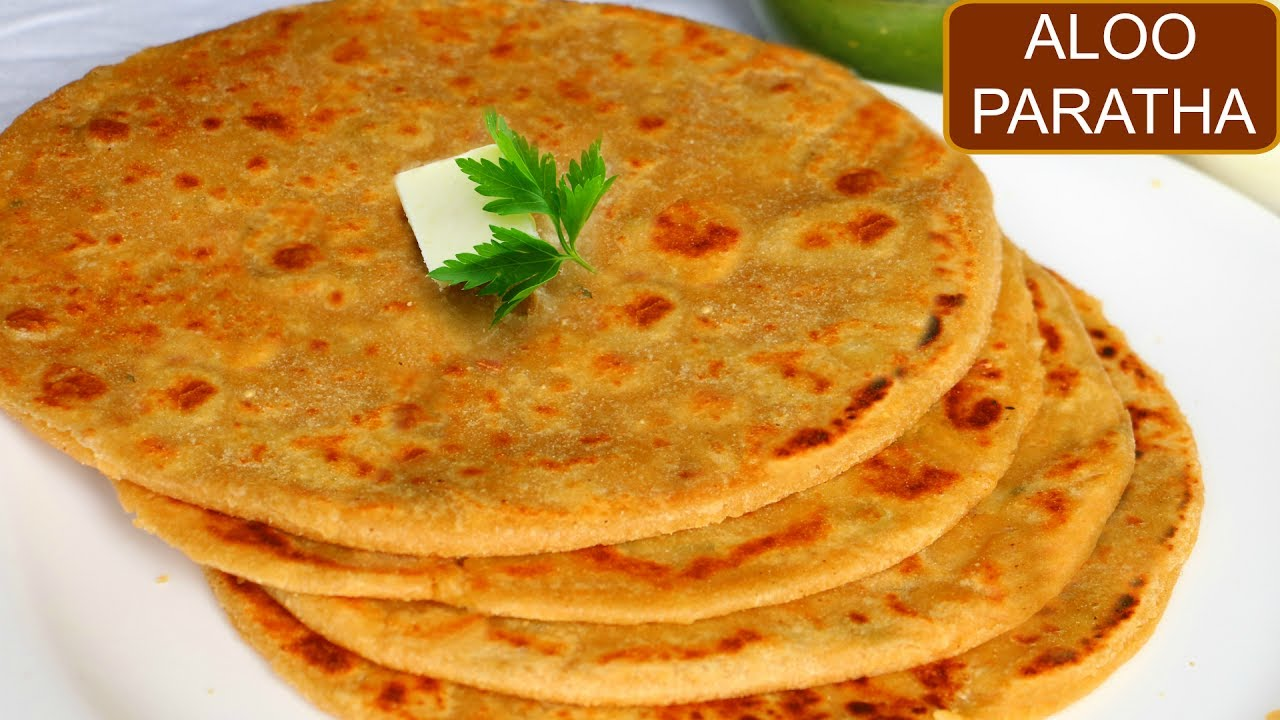aloo_paratha: (1, 6, 1204, 713)
